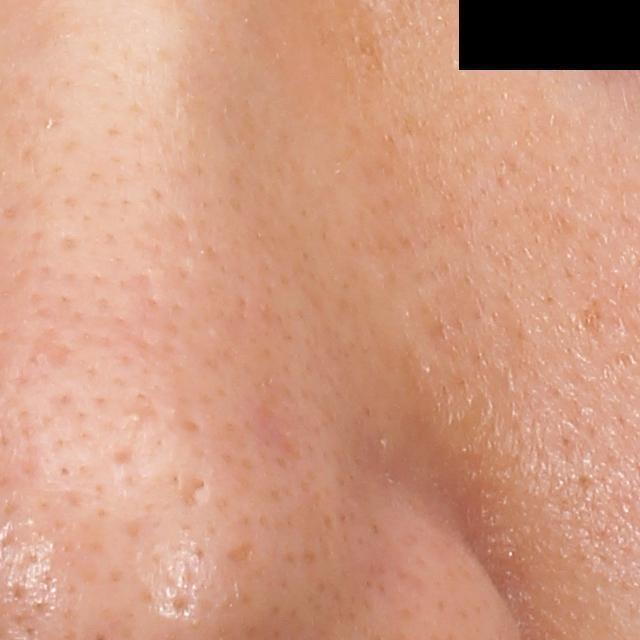atrophic_scar: (27, 324, 73, 366), (220, 541, 257, 572), (180, 476, 208, 513), (109, 443, 134, 469)
